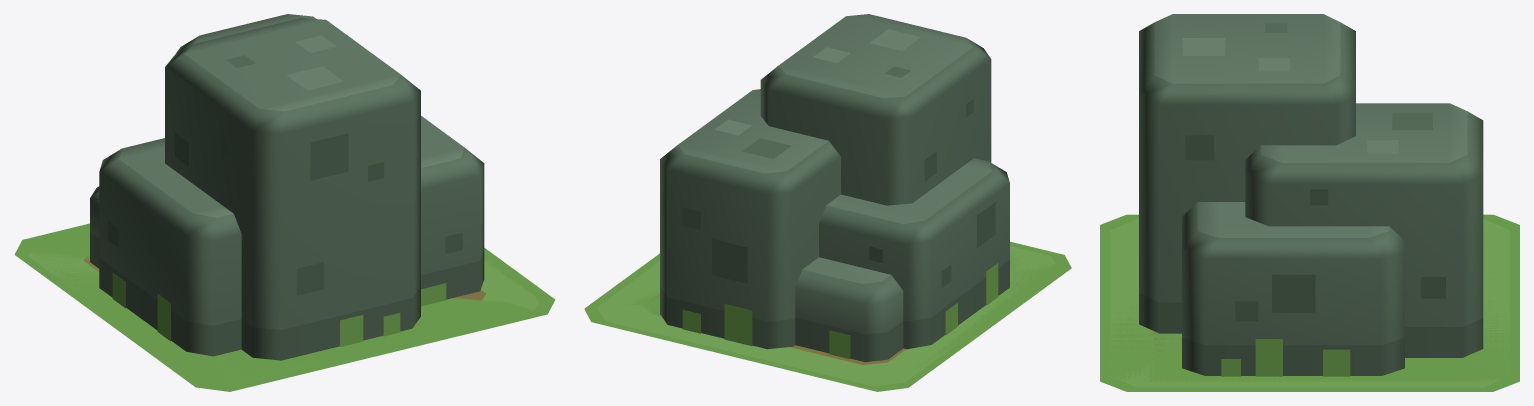
Rendered from B_grass1_rock01.fbx.
3 renders of one model, left to right at view 1: azimuth 30°, elevation 25°; view 2: azimuth 150°, elevation 25°; view 3: azimuth 270°, elevation 25°, orthographic. The views are drawn at different scales.
Visible parts, largest first — view 1: model 1, model; view 2: model 1, model; view 3: model 1, model.
Part boxes in pixels (box(x1,y1,x2,y2)): model 1: box(14, 14, 555, 391); model: box(28, 250, 538, 383); model 1: box(584, 14, 1071, 391); model: box(597, 246, 1055, 386); model 1: box(1100, 14, 1519, 391); model: box(1110, 219, 1509, 387).
Size of the model in its own units: 3.51 by 2.28 by 3.51.
